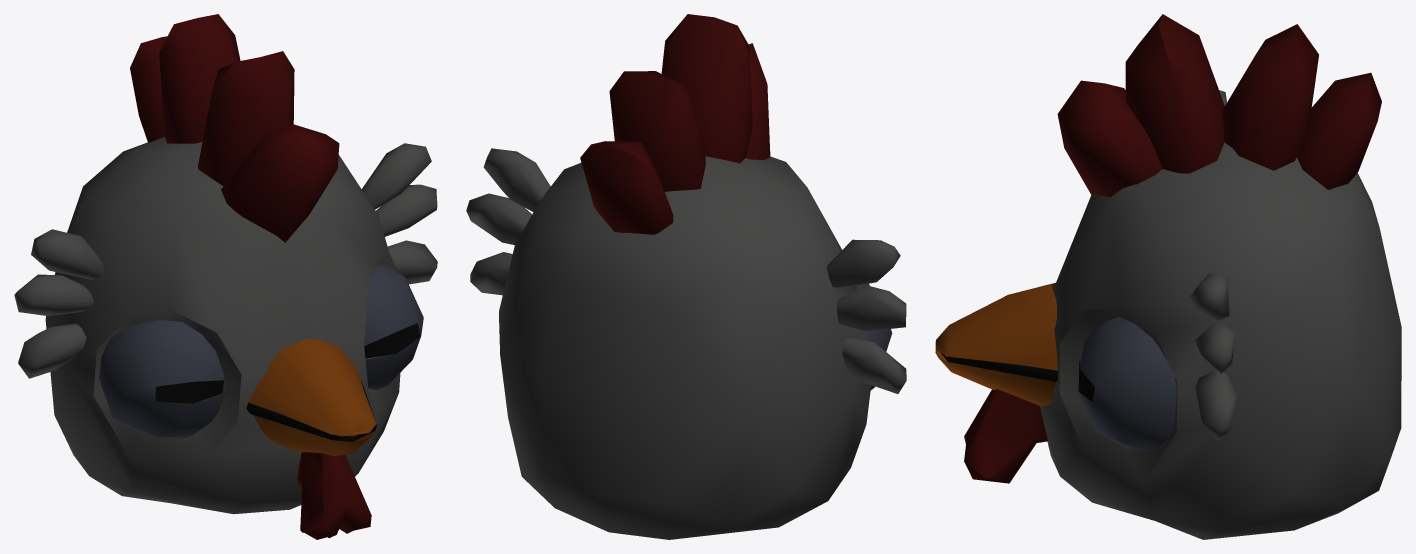
File: chicken.common-far.glb
3 views of the same model, side by side, from view 1: azimuth 30°, elevation 25°; view 2: azimuth 150°, elevation 25°; view 3: azimuth 270°, elevation 25° (orthographic). The views are drawn at different scales.
Parts seen in each view (by area): view 1: HordeReadyRigidMesh; view 2: HordeReadyRigidMesh; view 3: HordeReadyRigidMesh.
Part boxes in pixels (left/top/right/bottom): HordeReadyRigidMesh: left=14, top=14, right=437, bottom=539; HordeReadyRigidMesh: left=466, top=14, right=906, bottom=539; HordeReadyRigidMesh: left=935, top=14, right=1401, bottom=539.
Bounding box in the file's own units: 1.19 × 1.21 × 1.07.
